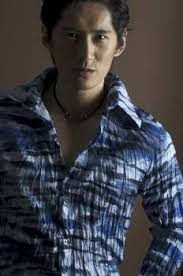asian_male: (51, 1, 119, 91)
